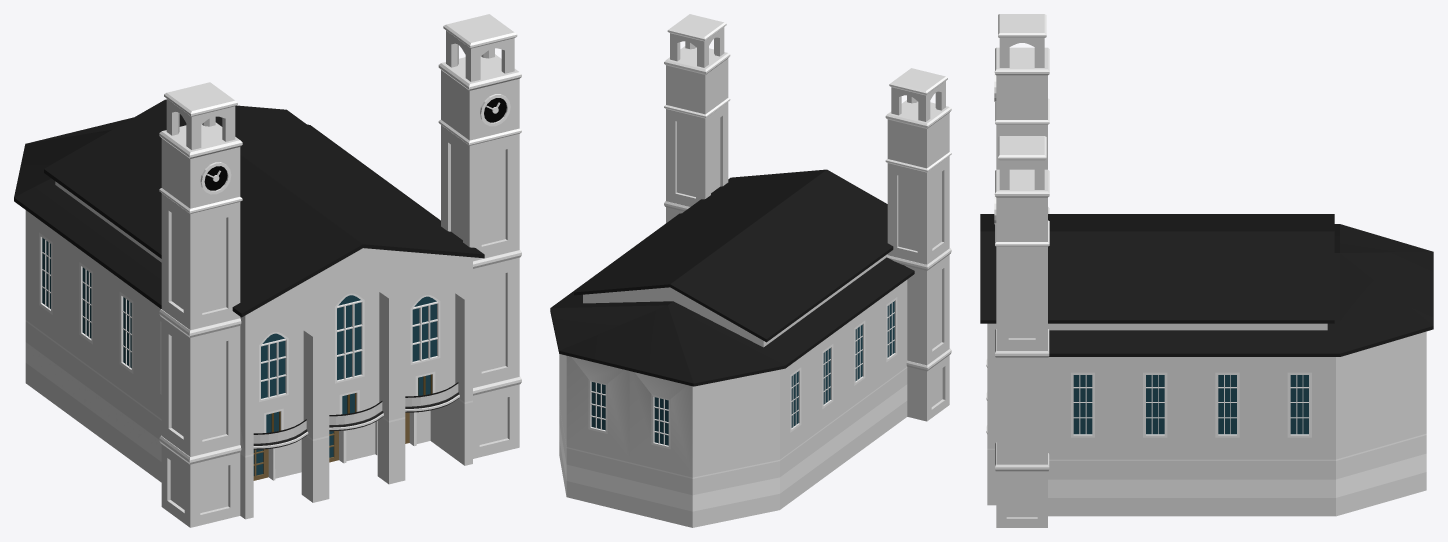
Rendered from church-01.fbx.
3 renders of one model, left to right at view 1: azimuth 30°, elevation 25°; view 2: azimuth 150°, elevation 25°; view 3: azimuth 270°, elevation 25°, orthographic. The views are drawn at different scales.
Visible parts, largest first — view 1: Church-01; view 2: Church-01; view 3: Church-01.
Boxes of the visible parts, bbox=[...] form: Church-01: bbox=[14, 14, 521, 527]; Church-01: bbox=[550, 14, 951, 527]; Church-01: bbox=[980, 14, 1433, 527].
Size of what is drawn, in the model's own units: 34.61 by 41.28 by 45.64.
